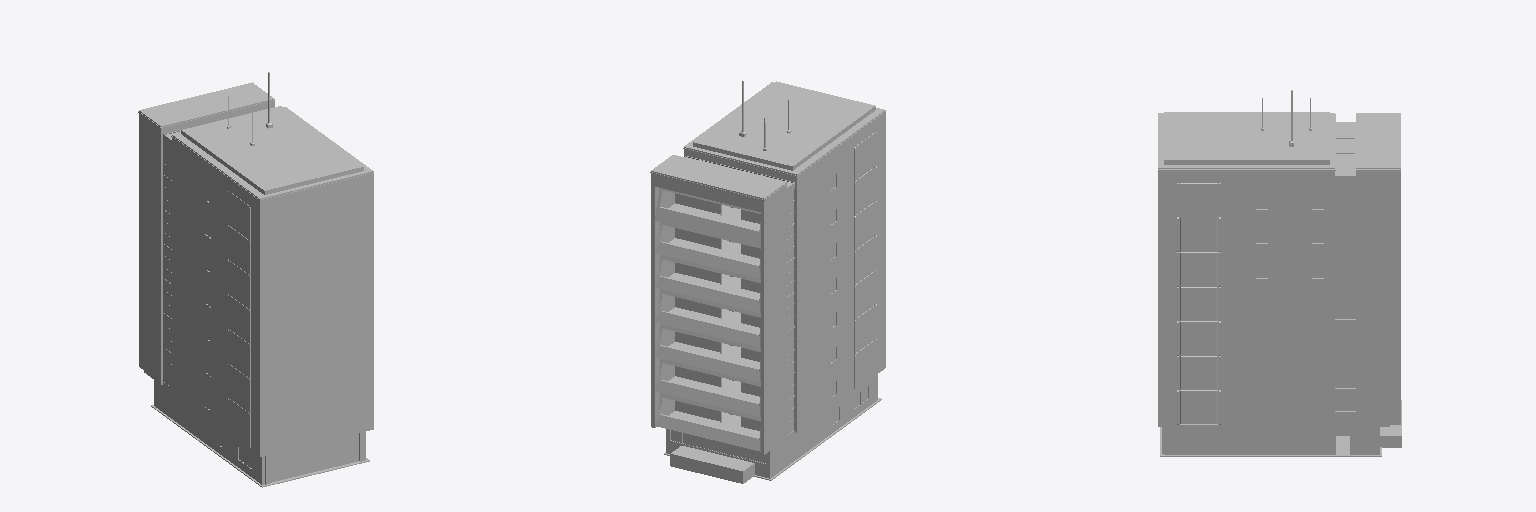
The model's file is Residential Buildings 004.obj.
3 views of the same model, side by side, from view 1: azimuth 30°, elevation 25°; view 2: azimuth 150°, elevation 25°; view 3: azimuth 270°, elevation 25° (orthographic).
Parts seen in each view (by area): view 1: Residential_Buildings_004_Cube.009; view 2: Residential_Buildings_004_Cube.009; view 3: Residential_Buildings_004_Cube.009.
Part boxes in pixels (x1,y1,x2,y2): Residential_Buildings_004_Cube.009: (138, 72, 373, 487); Residential_Buildings_004_Cube.009: (650, 81, 885, 483); Residential_Buildings_004_Cube.009: (1158, 90, 1401, 456).
Bounding box in the file's own units: 12.59 × 36.39 × 23.1.